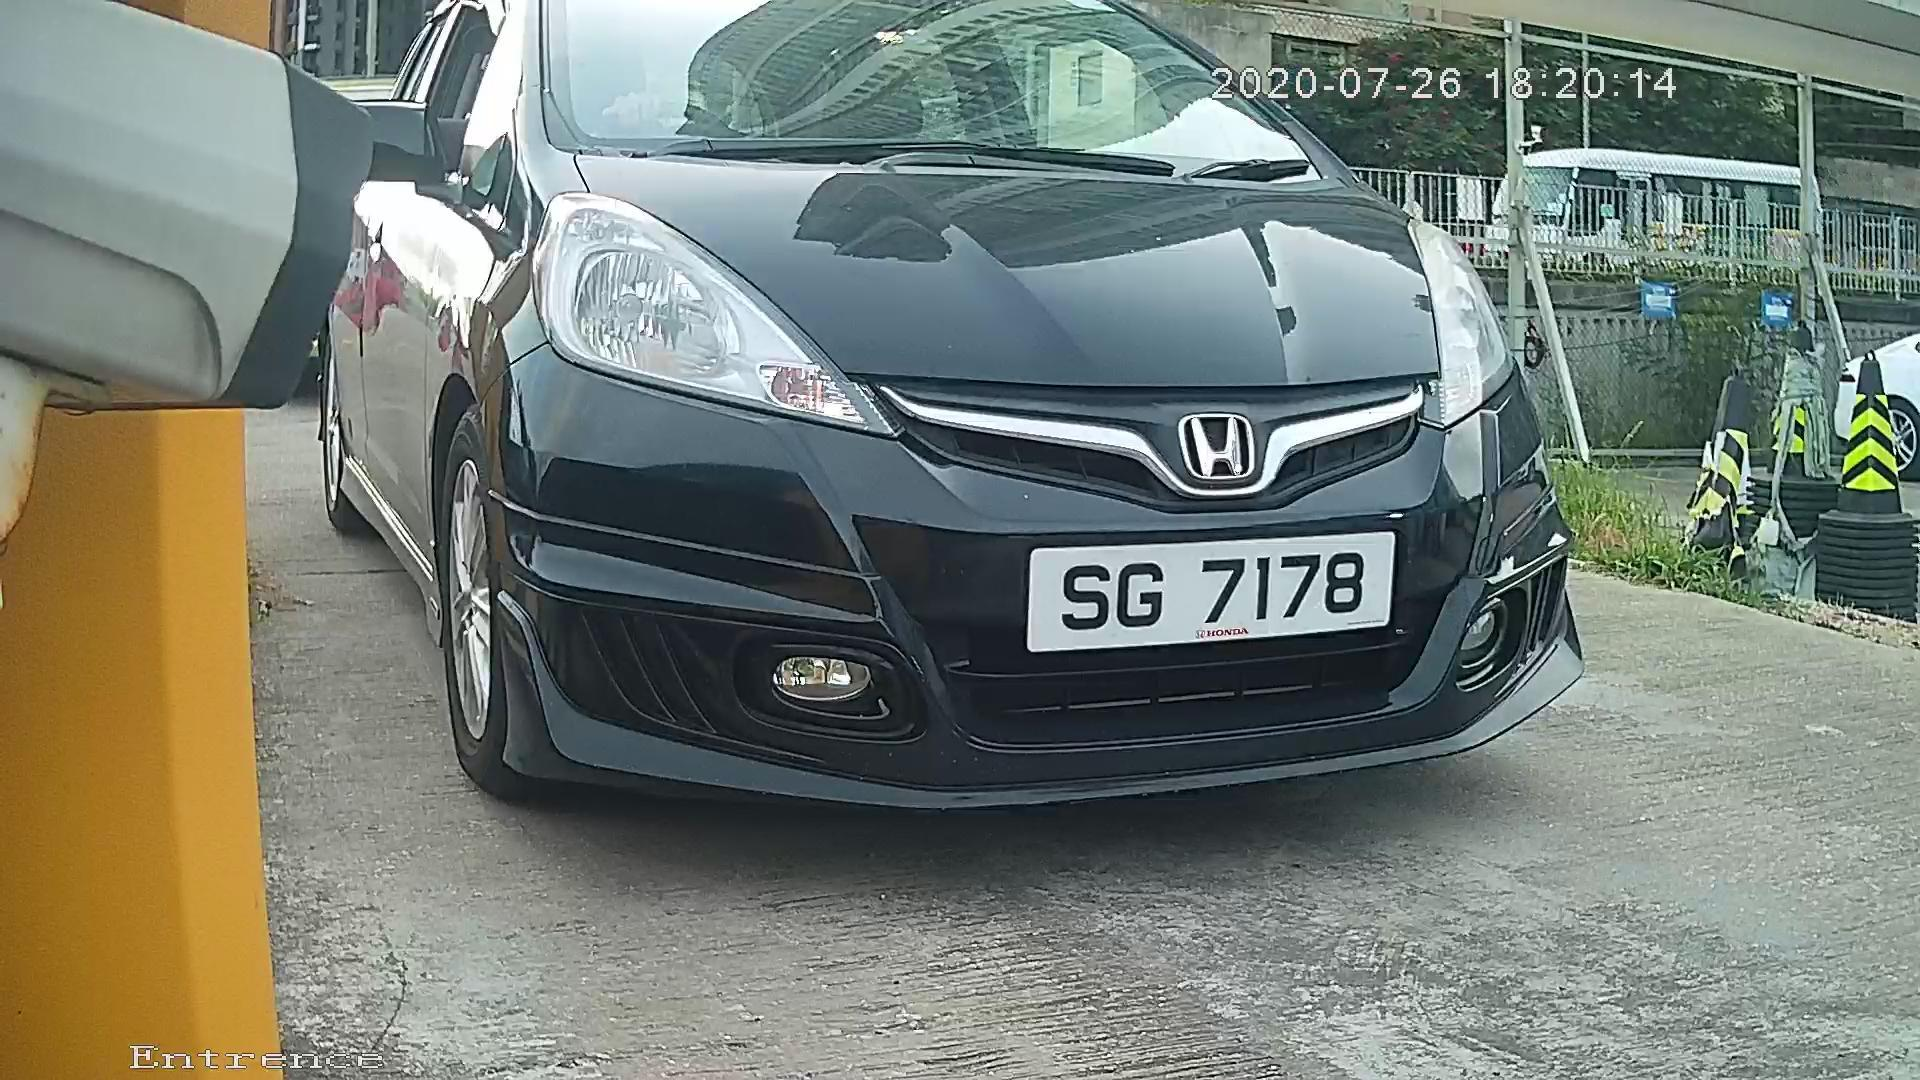License Plate: (1003, 526, 1398, 656)
